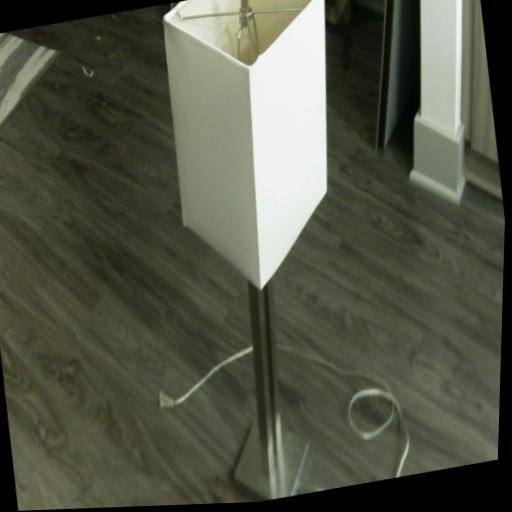lamp: (143, 0, 394, 506)
